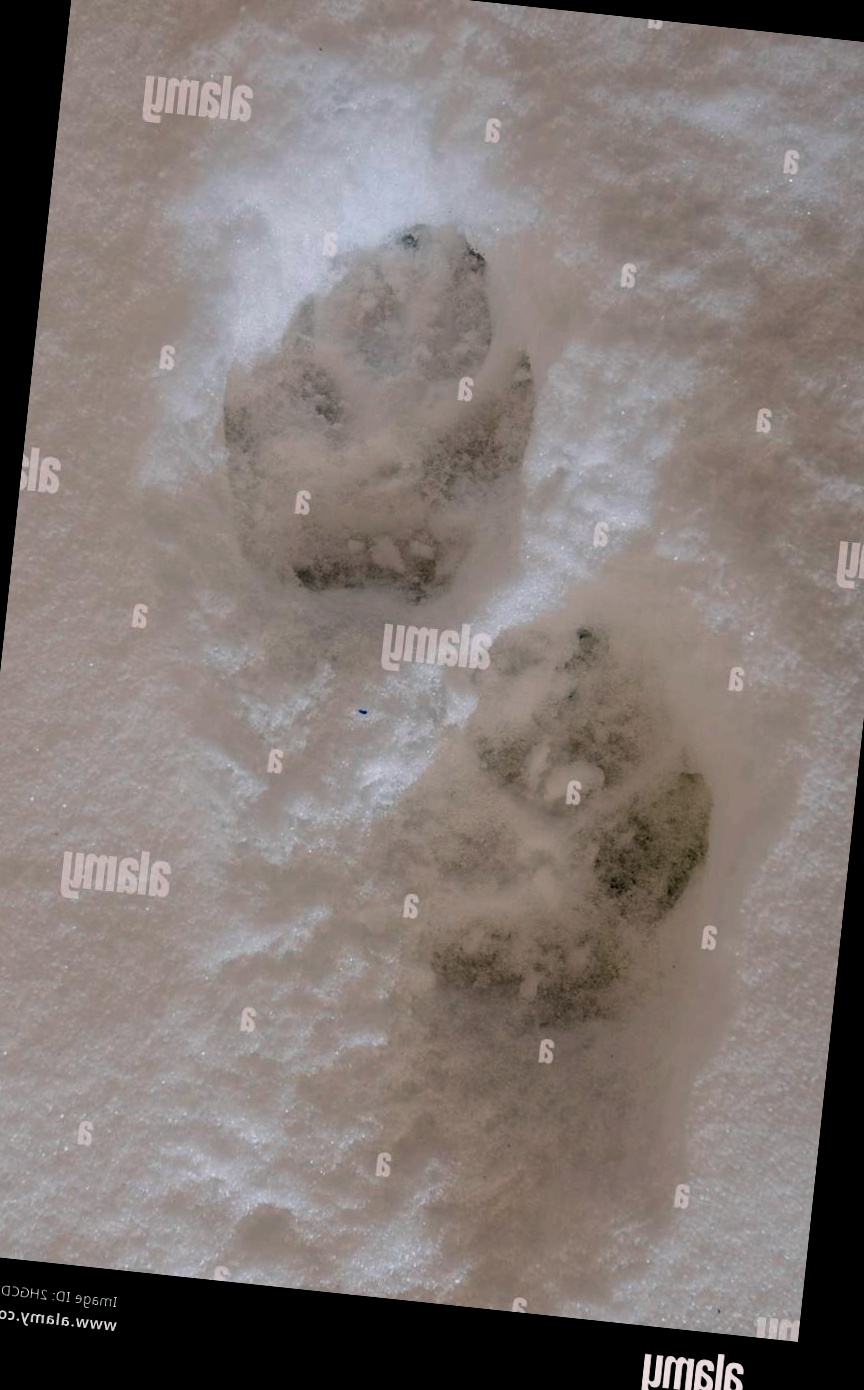loup: (96, 599, 477, 1075), (306, 190, 698, 628)
